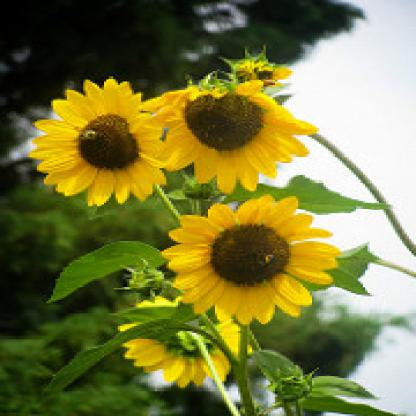SUN FLOWER: (17, 43, 369, 376)
